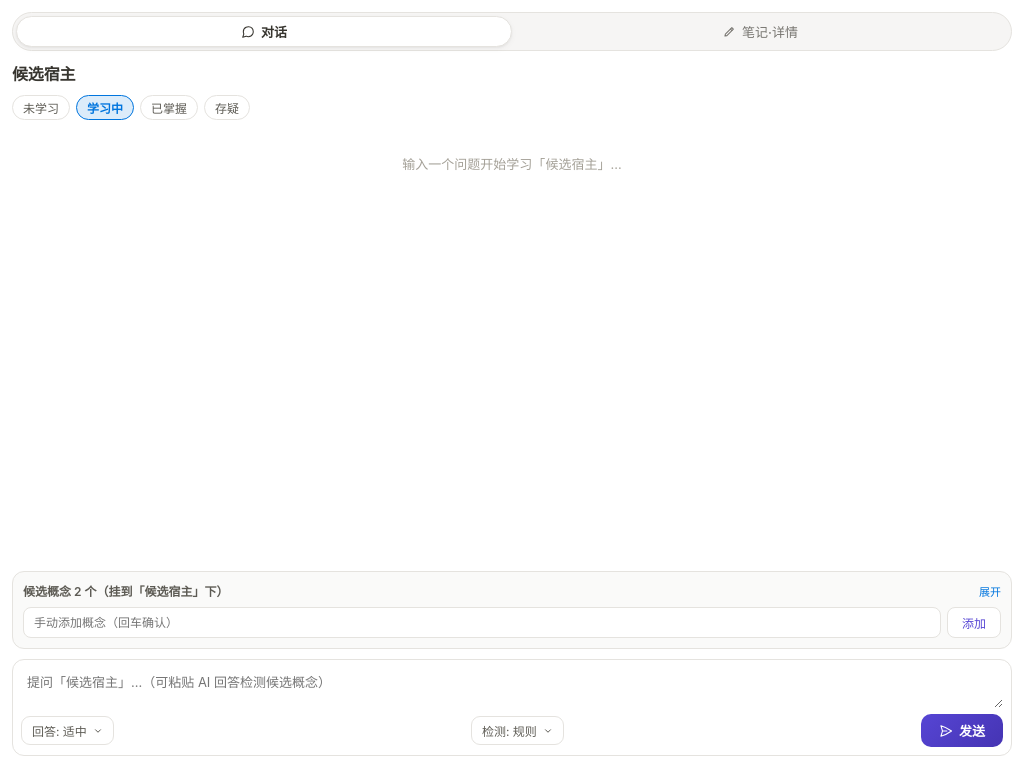
it: 候选概念折叠（第二轮 1.8 反馈 #1） › 展开后芯片可见，收起后隐藏
The width and height of the screenshot is (1024, 768).
Click the text "展开" at (990, 590), box [979, 582, 1001, 598]
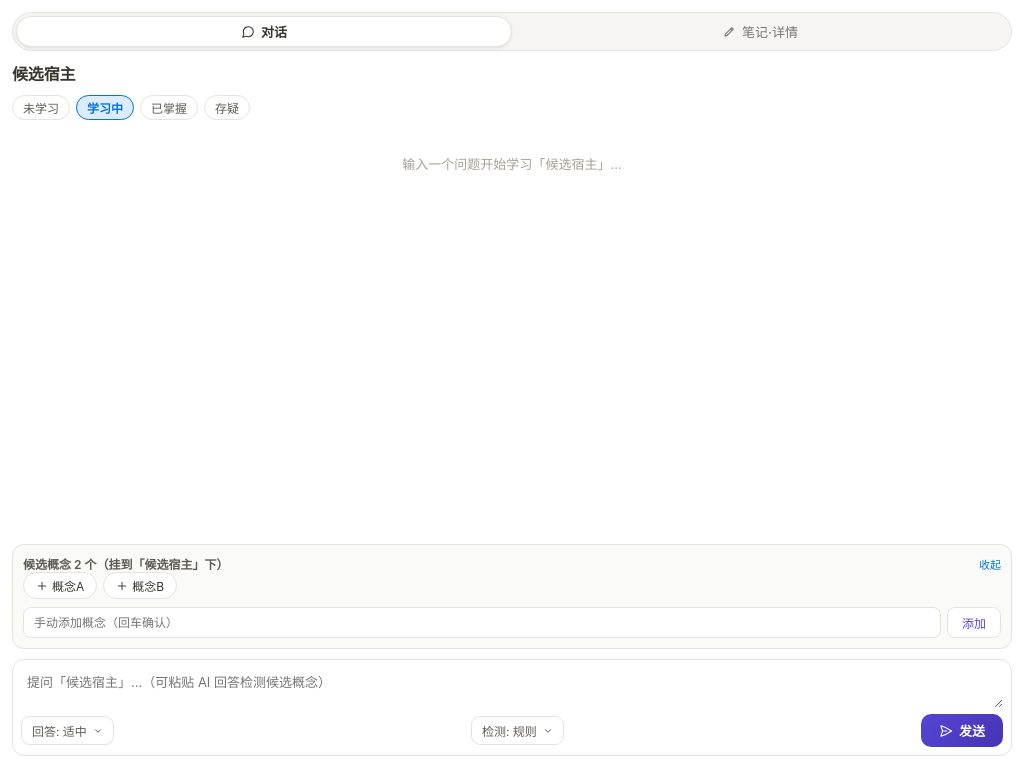
Expected: the button "概念A" is shown, [23, 572, 97, 599]
Expected: the button "概念B" is shown, [103, 572, 177, 599]
Click the text "收起" at (990, 564), box [979, 556, 1001, 572]
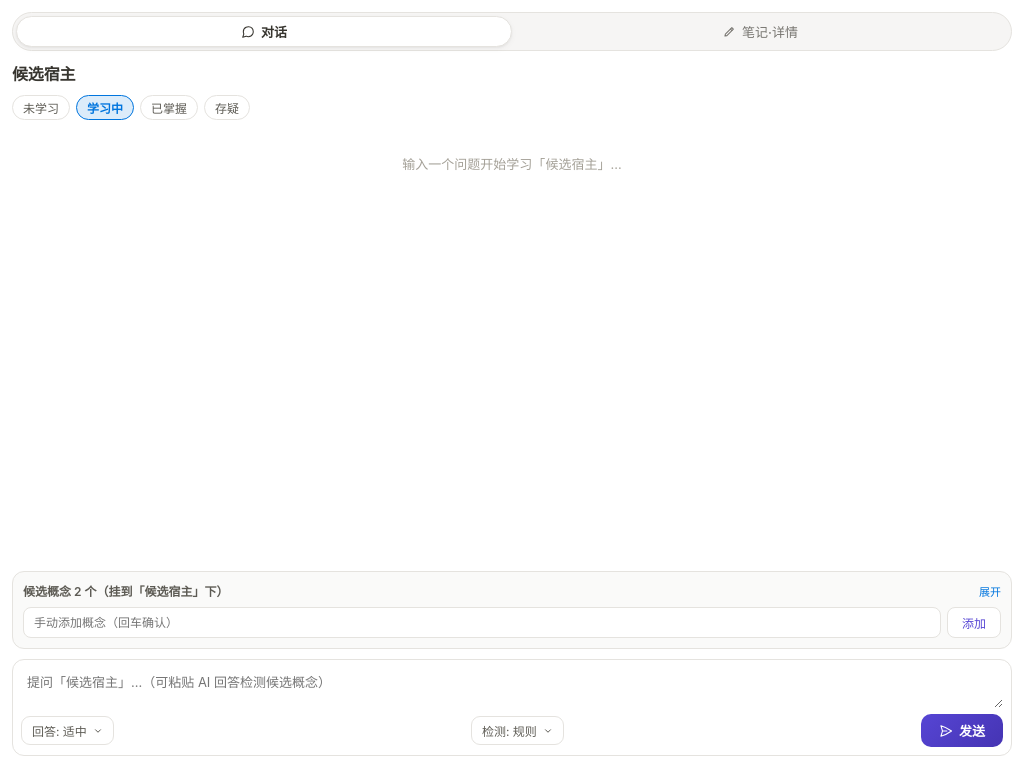
Expected: the button "概念A" is gone
